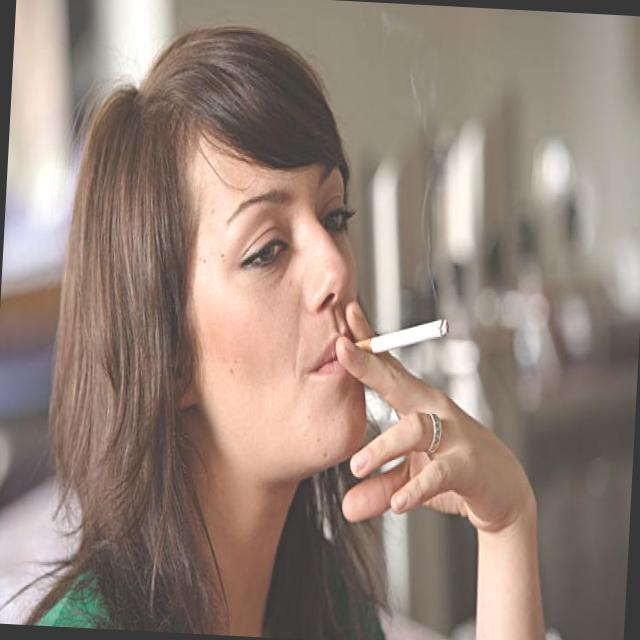cigarette: (344, 304, 450, 360)
